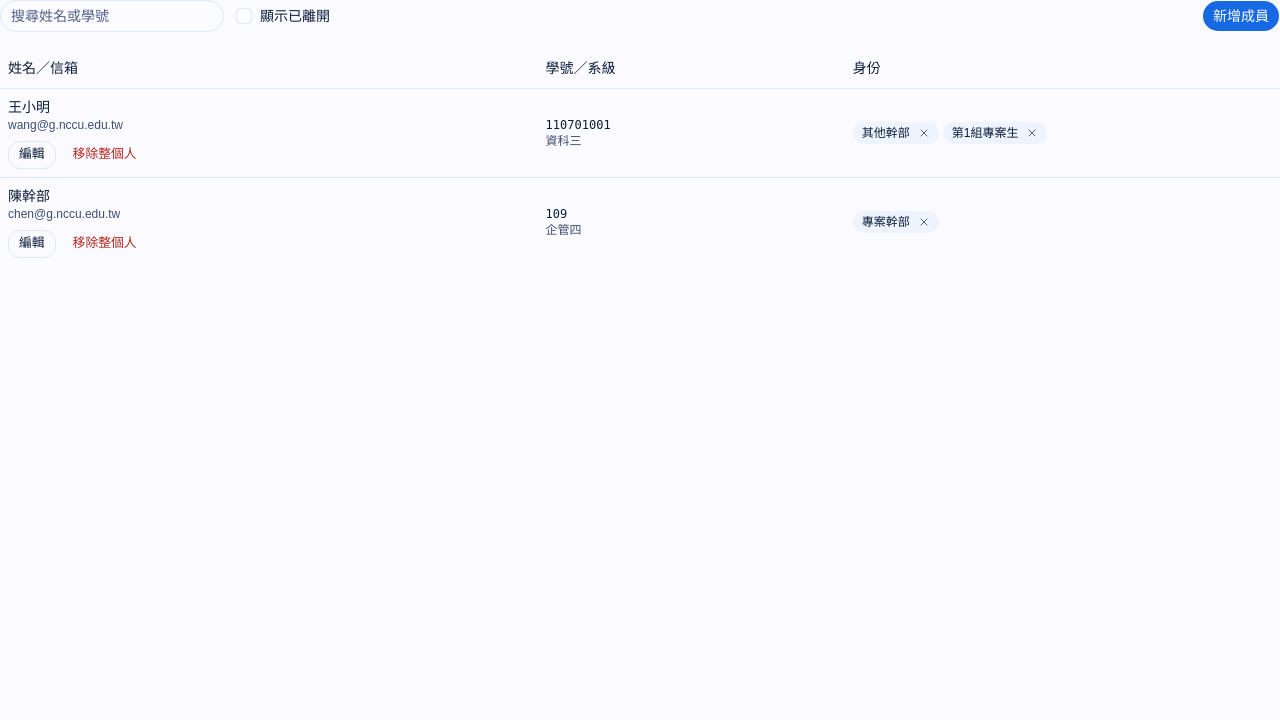
Test: MembersSection（管理員頁成員區塊） › 專案幹部身份：確認視窗說明負責組別會一起移除
What coordinates should you click on to do the following:
click the button named "移除陳幹部的專案幹部身份"
I would click on:
 (924, 222)
Its box is x1=912 y1=210 x2=936 y2=234.
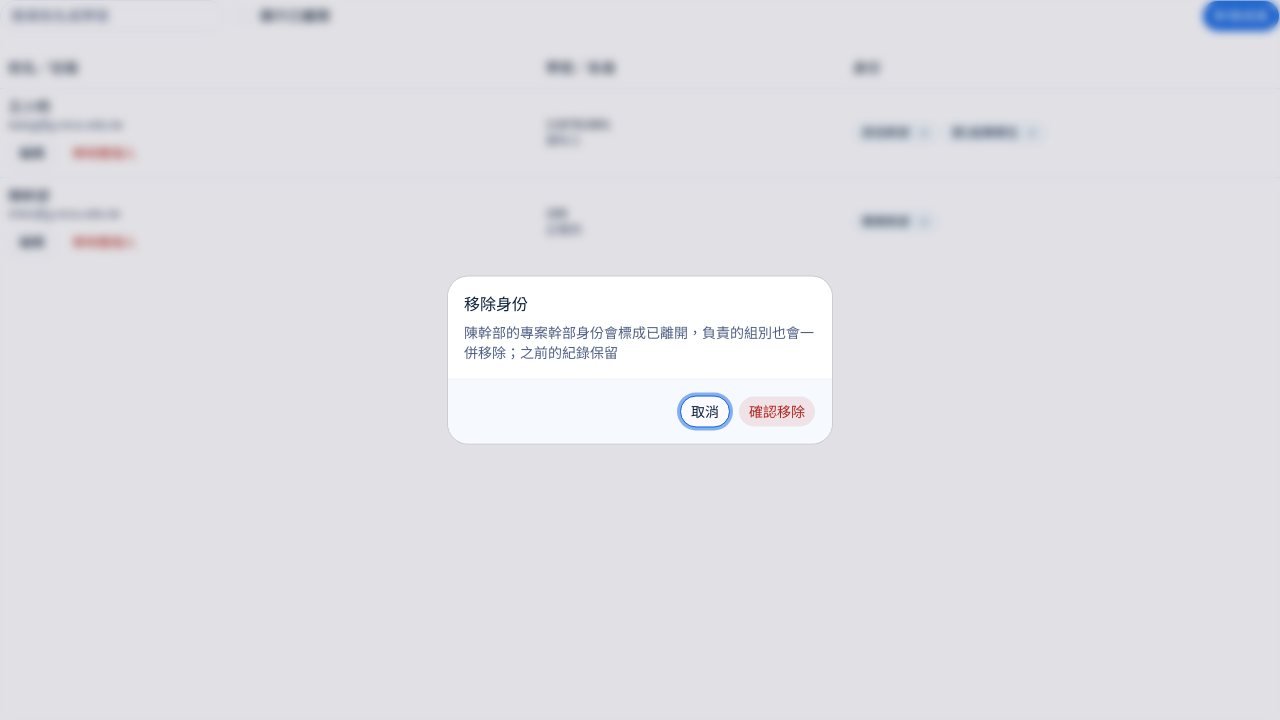
Now the text "陳幹部的專案幹部身份會標成已離開，負責的組別也會一併移除；之前的紀錄保留" is shown, box x1=464 y1=322 x2=816 y2=362
